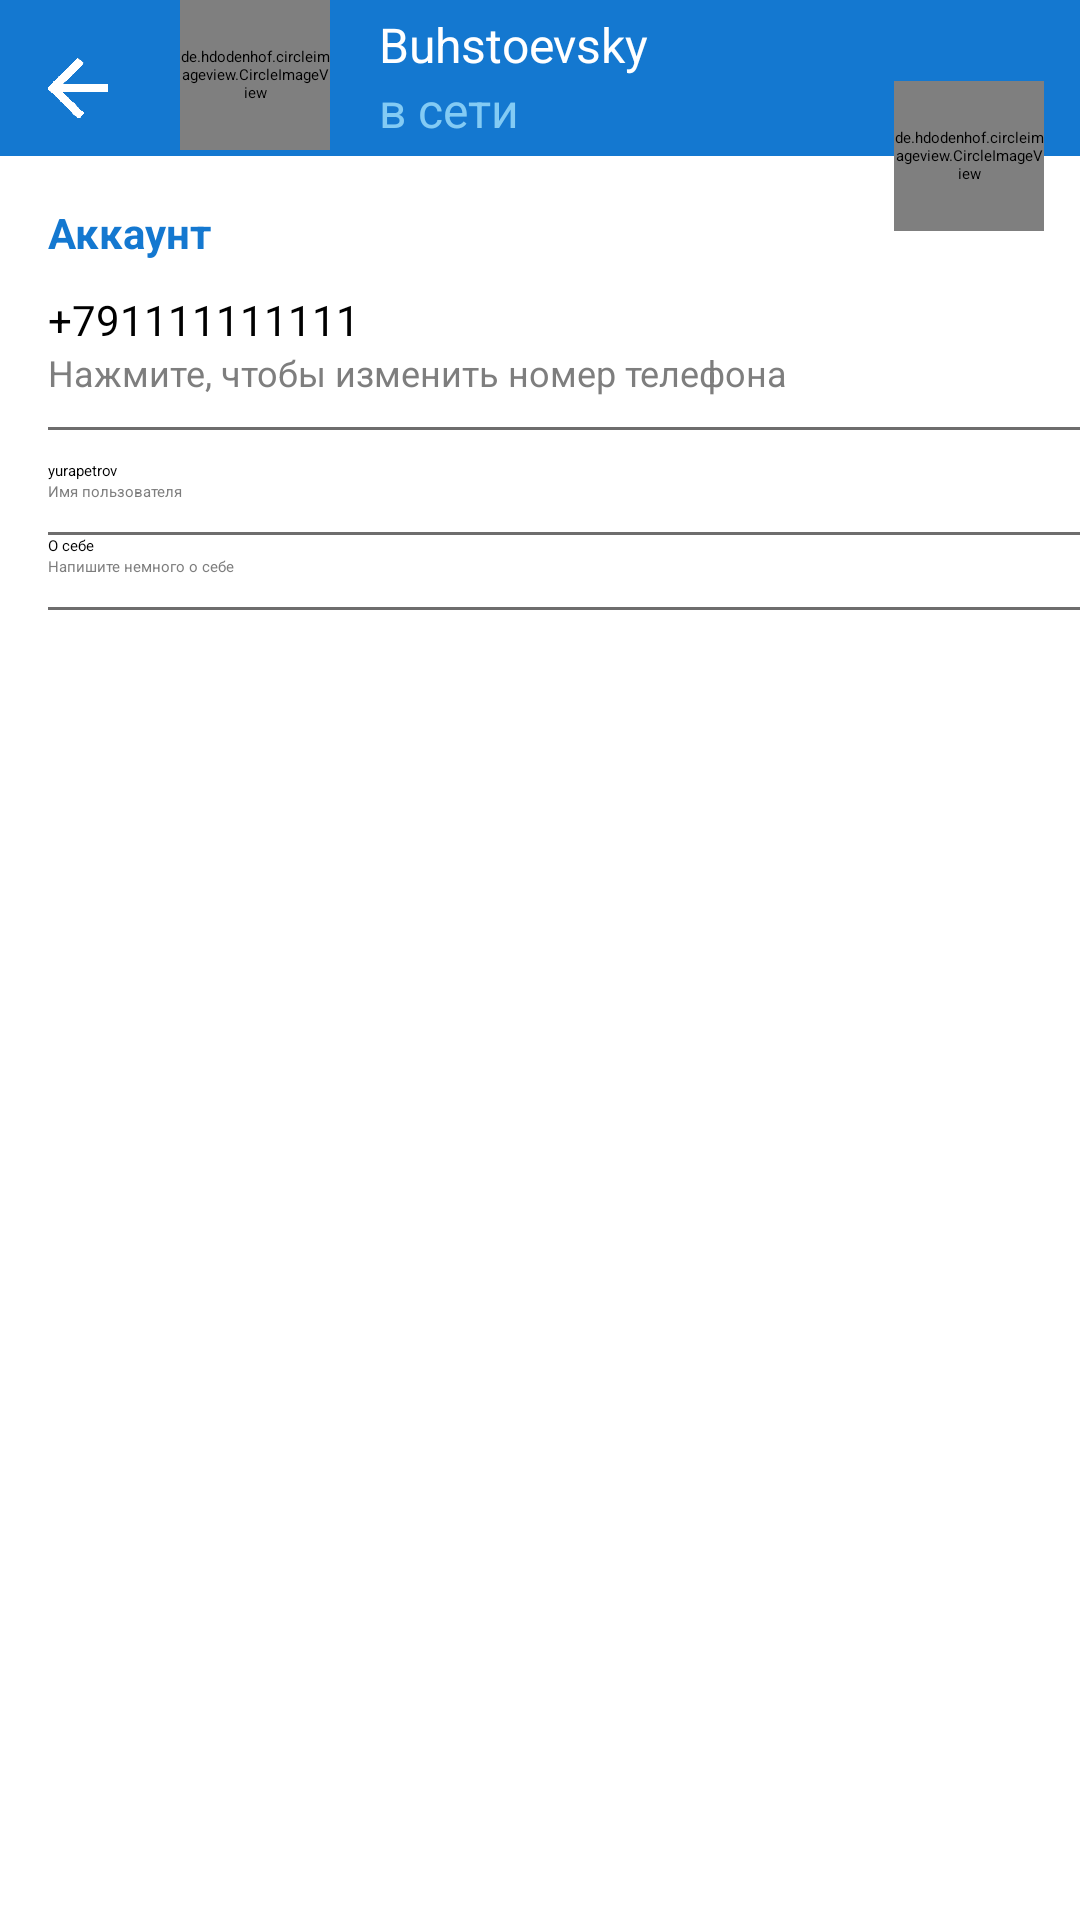

Screen size 1080 × 1920. Icon name, then its box in pixels as [x1=x1, y1=y1, x2=x2, y2=y2]:
arrow back: [x1=48, y1=58, x2=108, y2=118]
